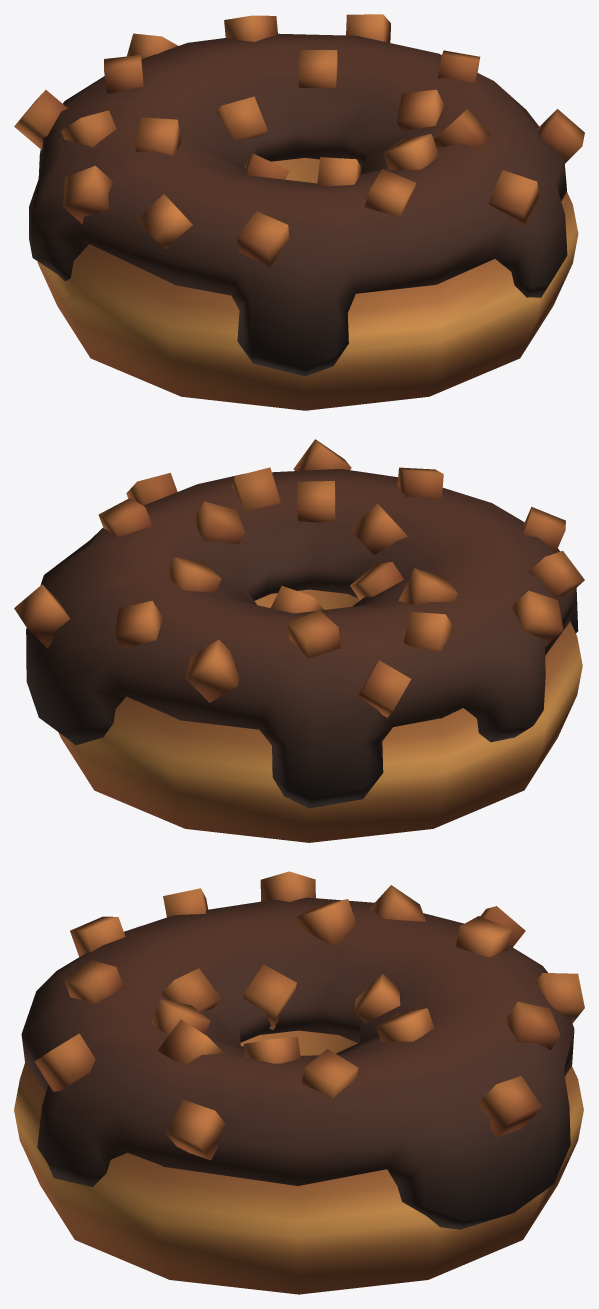
File: m_Donut12.fbx
3 views of the same model, one above another, from view 1: azimuth 30°, elevation 25°; view 2: azimuth 150°, elevation 25°; view 3: azimuth 270°, elevation 25° (orthographic). The views are drawn at different scales.
Visible parts, largest first — view 1: m_Donut12; view 2: m_Donut12; view 3: m_Donut12.
Part boxes in pixels (box(x1,y1,x2,y2)): m_Donut12: box(14, 14, 584, 410); m_Donut12: box(14, 439, 584, 842); m_Donut12: box(14, 871, 584, 1294).
Size of the model in its own units: 12.47 by 5.8 by 12.18.
